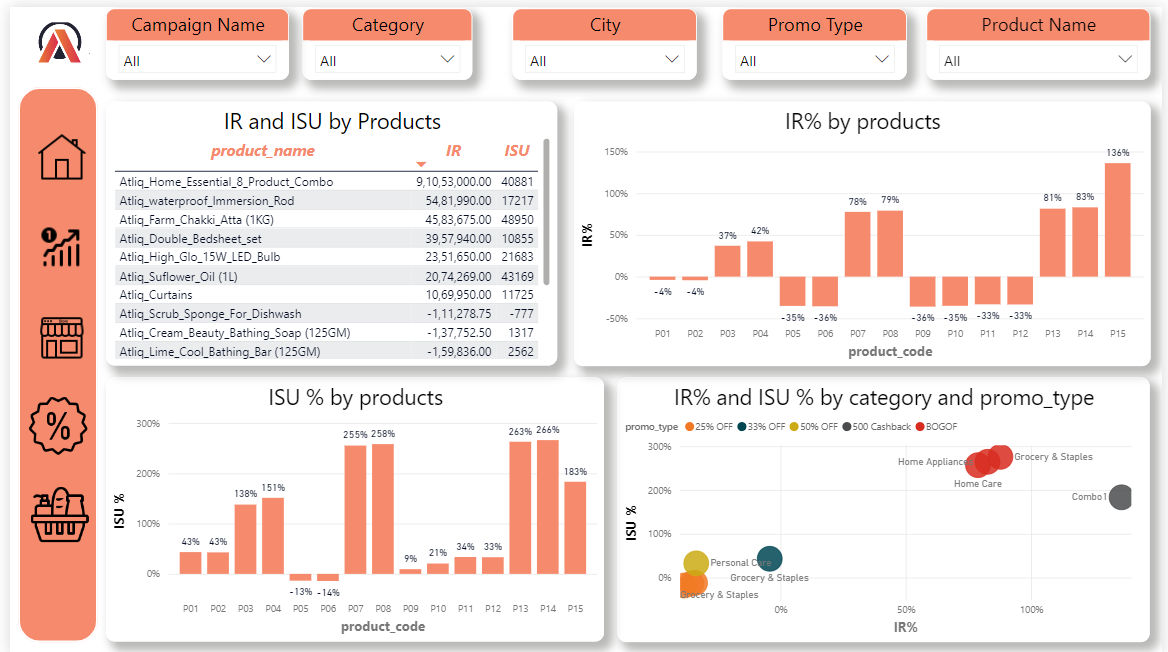

Layout of this report page (visuals, bound fields, positions):
{"tool":"powerbi","page":{"name":"Product And Category Analysis","canvas":[1280,720],"ordinal":4},"visuals":[{"type":"image","box":[11.7,11.7,81.7,55],"z":0},{"type":"slicer","title":"Campaign Name","fields":{"Values":["retail_events_db dim_campaigns.campaign_name"]},"box":[106.5,1.6,203.2,79],"z":1000},{"type":"shape","box":[0,80.6,106.7,635],"z":2000},{"type":"slicer","title":"Category","fields":{"Values":["retail_events_db dim_products.category"]},"box":[324.2,1.6,188.7,79],"z":3000},{"type":"image","box":[25,225,65,85],"z":4000},{"type":"image","box":[25,325,65,85],"z":5000},{"type":"slicer","title":"City","fields":{"Values":["retail_events_db dim_stores.city"]},"box":[558.1,1.6,204.8,79],"z":6000},{"type":"slicer","title":"Promo Type","fields":{"Values":["retail_events_db fact_events.promo_type"]},"box":[791.9,1.6,204.8,79],"z":7000},{"type":"image","box":[25,125,65,85],"z":8000},{"type":"image","box":[14,425,80,80],"z":9000},{"type":"tableEx","title":"IR and ISU by Products","fields":{"Values":["retail_events_db dim_products.product_name","retail_events_db fact_events.IR","retail_events_db fact_events.ISU"]},"box":[106.5,104.8,501.6,293.5],"z":10000},{"type":"image","box":[15,525,80,80],"z":11000},{"type":"clusteredColumnChart","title":"IR% by products","fields":{"Category":["retail_events_db fact_events.product_code"],"Y":["retail_events_db fact_events.IR%"]},"box":[626.2,104.9,640.5,294],"z":12000},{"type":"slicer","title":"Product Name","fields":{"Values":["retail_events_db dim_products.product_name"]},"box":[1017.7,1.6,248.4,79],"z":13000},{"type":"clusteredColumnChart","title":"ISU % by products","fields":{"Category":["retail_events_db fact_events.product_code"],"Y":["retail_events_db fact_events.ISU %"]},"box":[106.7,411.7,553.3,293.3],"z":14000},{"type":"scatterChart","fields":{"Category":["retail_events_db dim_products.category"],"X":["retail_events_db fact_events.IR%"],"Y":["retail_events_db fact_events.ISU %"],"Series":["retail_events_db fact_events.promo_type"]},"box":[675.5,411.7,591.3,294],"z":15000}]}

Visuals, with their boxes in screenshot pixels (x1, y1, x2, y2), scaled from the page's 1280x720 canvas onto the 1168x652 screenshot:
image: rect(11, 11, 85, 60)
"Campaign Name" slicer: rect(97, 1, 283, 73)
shape: rect(0, 73, 97, 648)
"Category" slicer: rect(296, 1, 468, 73)
image: rect(23, 204, 82, 281)
image: rect(23, 294, 82, 371)
"City" slicer: rect(509, 1, 696, 73)
"Promo Type" slicer: rect(723, 1, 909, 73)
image: rect(23, 113, 82, 190)
image: rect(13, 385, 86, 457)
"IR and ISU by Products" tableEx: rect(97, 95, 555, 361)
image: rect(14, 475, 87, 548)
"IR% by products" clusteredColumnChart: rect(571, 95, 1156, 361)
"Product Name" slicer: rect(929, 1, 1155, 73)
"ISU % by products" clusteredColumnChart: rect(97, 373, 602, 638)
scatterChart - retail_events_db dim_products.category x retail_events_db fact_events.IR%: rect(616, 373, 1156, 639)
